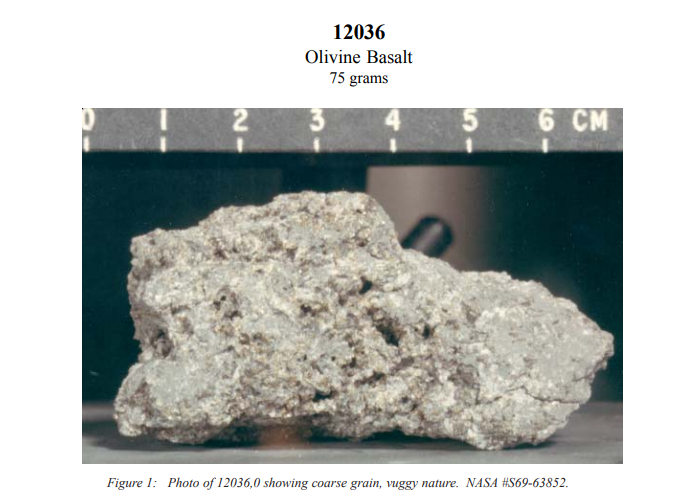Basalt: (94, 185, 618, 455)
